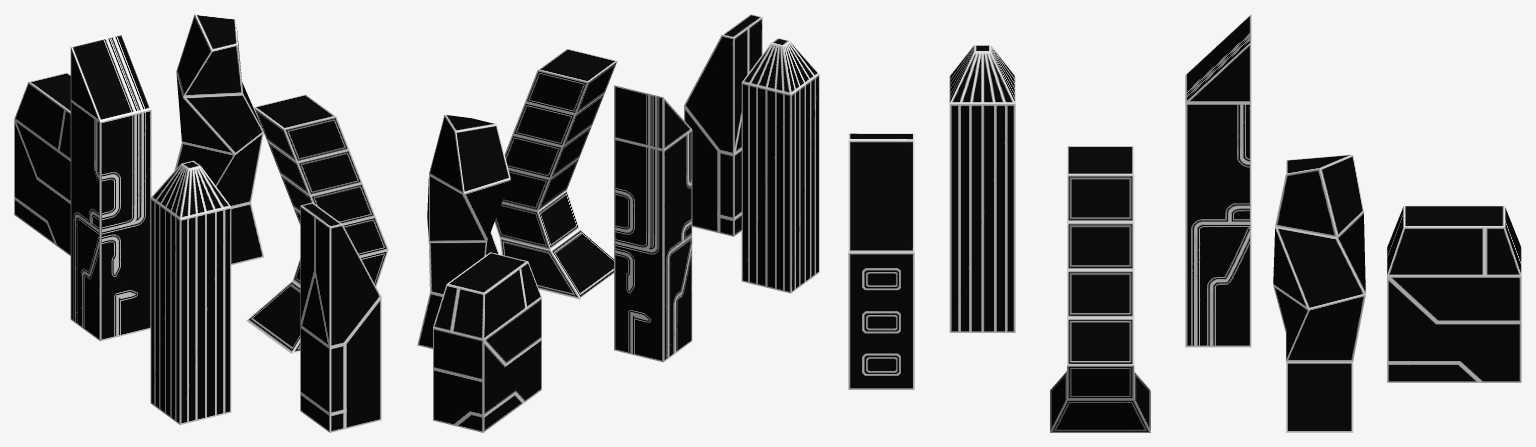
The model's file is Unique_cityscape.fbx.
3 renders of one model, left to right at view 1: azimuth 30°, elevation 25°; view 2: azimuth 150°, elevation 25°; view 3: azimuth 270°, elevation 25°, orthographic. The views are drawn at different scales.
Parts seen in each view (by area): view 1: polySurface1; view 2: polySurface1; view 3: polySurface1.
Boxes of the visible parts, x1,y1,x2,y2 form: polySurface1: (14, 14, 388, 432); polySurface1: (417, 14, 819, 432); polySurface1: (848, 14, 1521, 432).
Size of the model in its own units: 126 by 127 by 253.
1 material, 1 textured.
